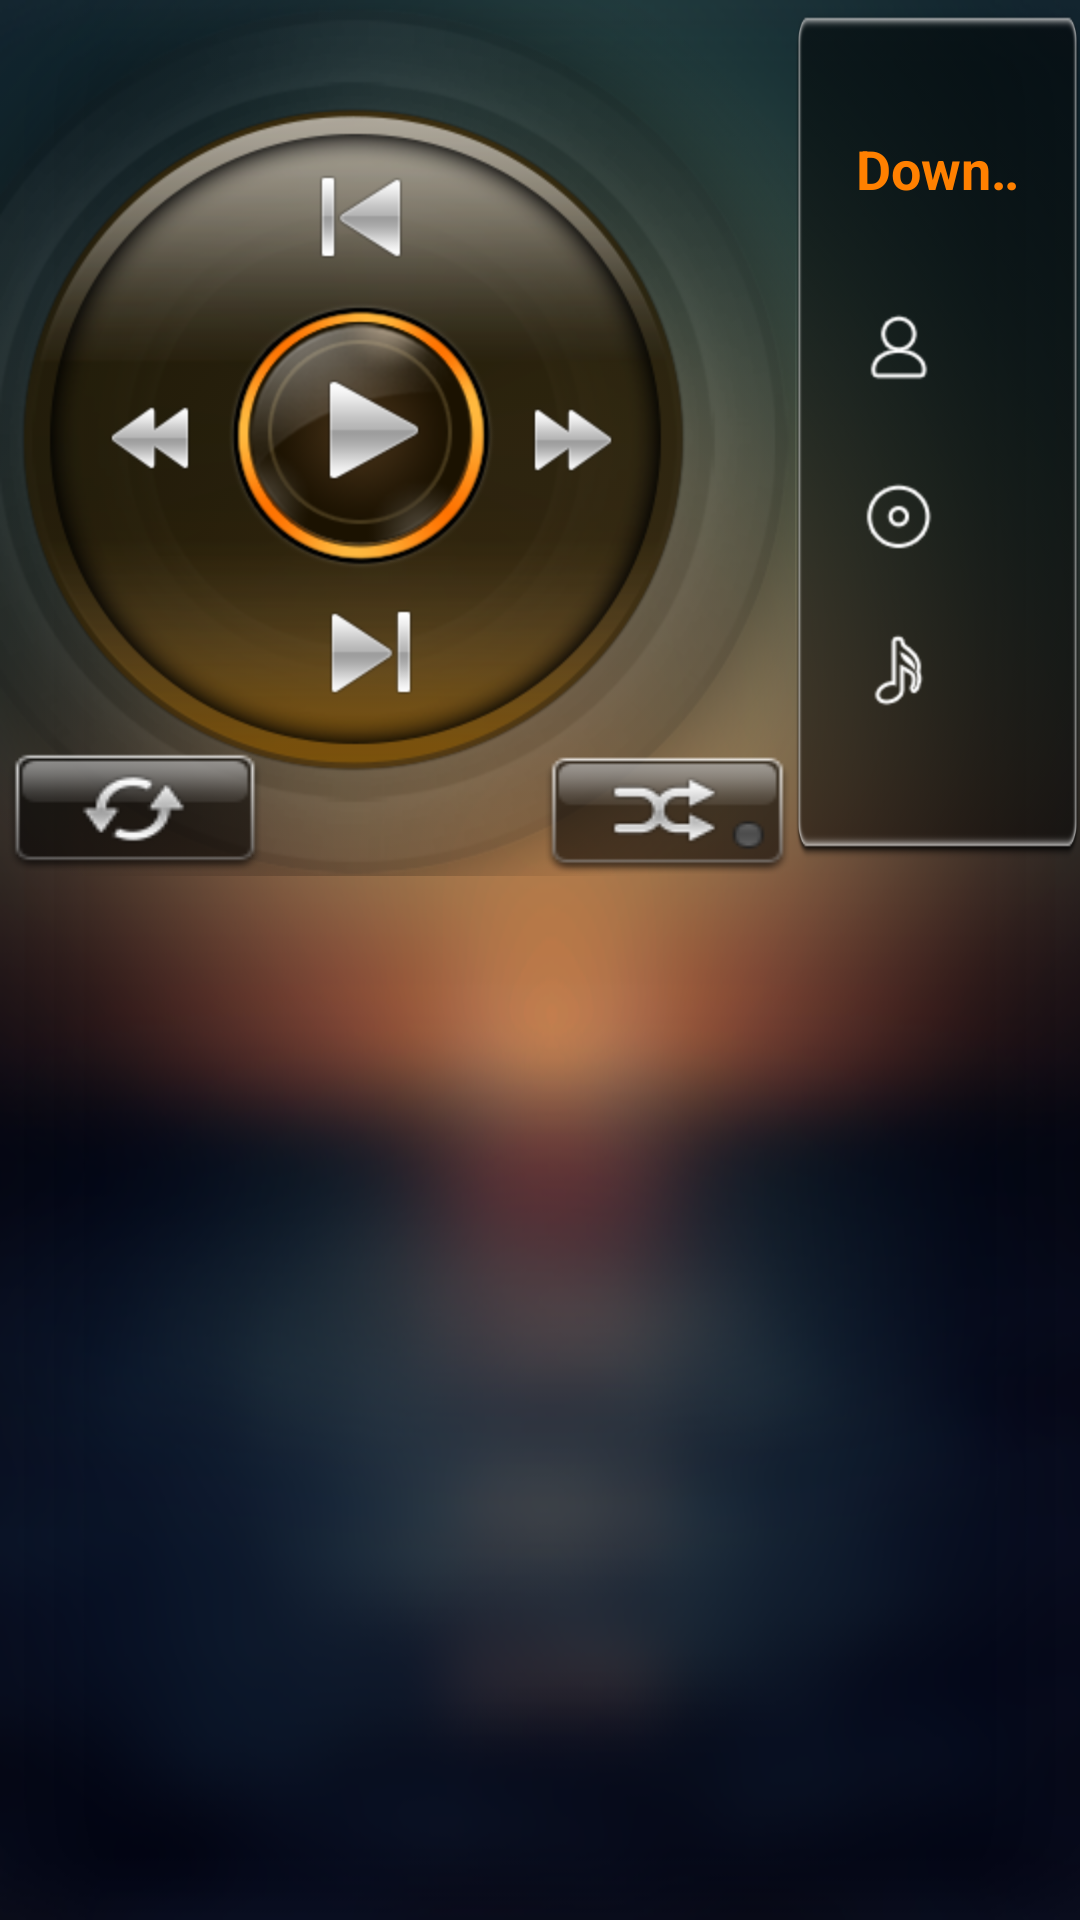

Screen size 1080 x 1920. Icon name, then its center in pixels as (x=x, y=y):
album: (x=899, y=516)
operation play: (x=361, y=433)
operation recycle: (x=135, y=813)
operation shuffle: (x=667, y=813)
player: (x=899, y=347)
